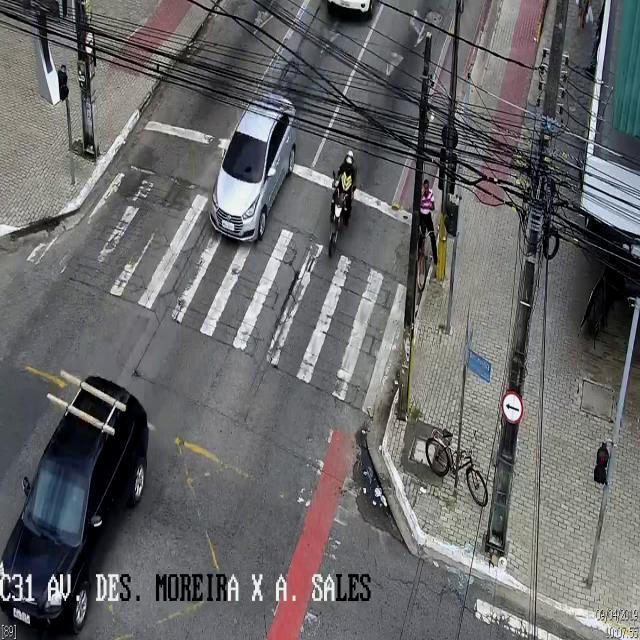Car: (1, 375, 148, 633), (209, 91, 297, 242)
Motorcycle: (329, 152, 355, 261)
